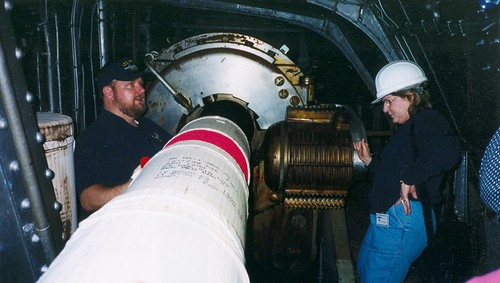person hardhat: (350, 60, 456, 283)
